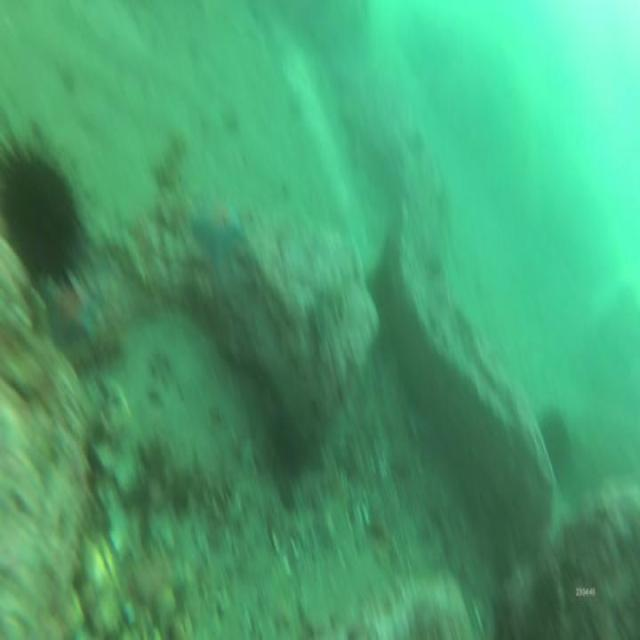echinus: (3, 162, 80, 274), (538, 411, 572, 479)
holothurian: (148, 433, 233, 517), (160, 136, 187, 190)
starfish: (192, 190, 244, 266), (44, 280, 100, 346)
